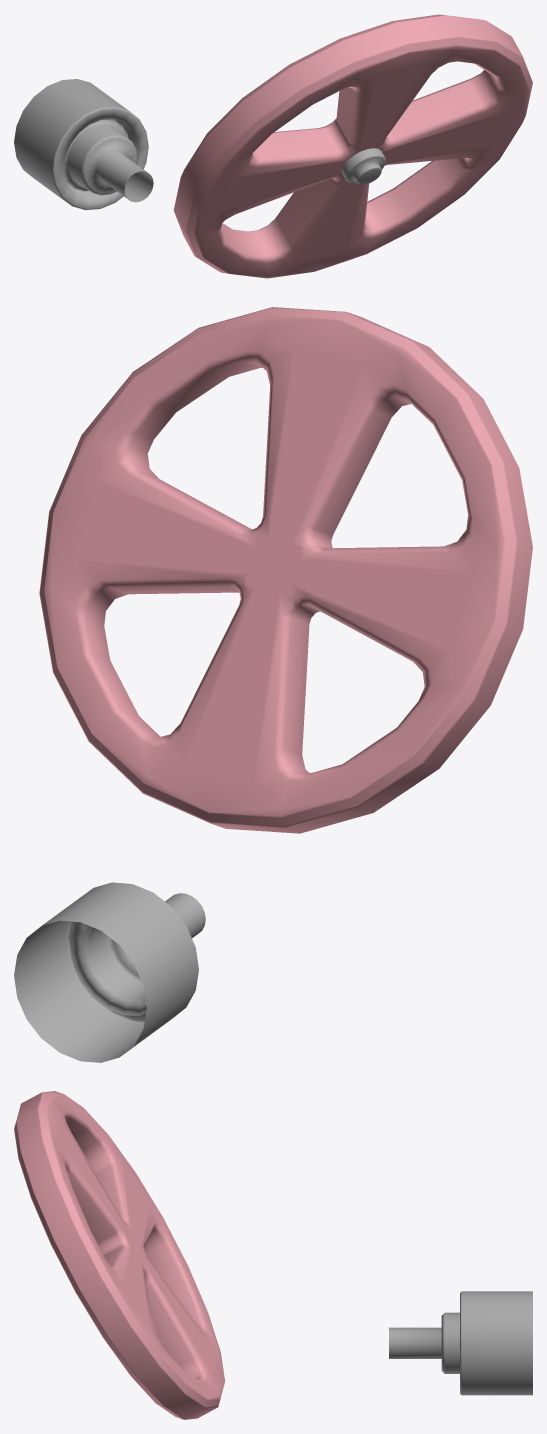
Rendered from ValveAnim_2ndpart.fbx.
3 renders of one model, top to bottom at view 1: azimuth 30°, elevation 25°; view 2: azimuth 150°, elevation 25°; view 3: azimuth 270°, elevation 25°, orthographic. The views are drawn at different scales.
Parts seen in each view (by area): view 1: pCylinder5, pCylinder1; view 2: pCylinder5, pCylinder1; view 3: pCylinder5, pCylinder1.
Boxes of the visible parts, x1,y1,x2,y2 form: pCylinder5: [173, 14, 532, 278]; pCylinder1: [14, 79, 153, 210]; pCylinder5: [39, 307, 532, 833]; pCylinder1: [14, 882, 205, 1062]; pCylinder5: [14, 1091, 225, 1419]; pCylinder1: [389, 1291, 532, 1395].
Size of the model in its own units: 9.92 by 9.5 by 14.23.
